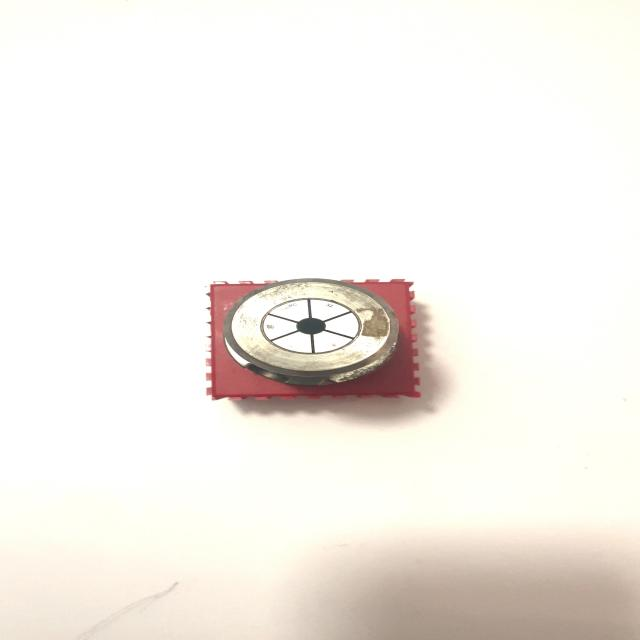Filled_Slot: (223, 278, 398, 386)
